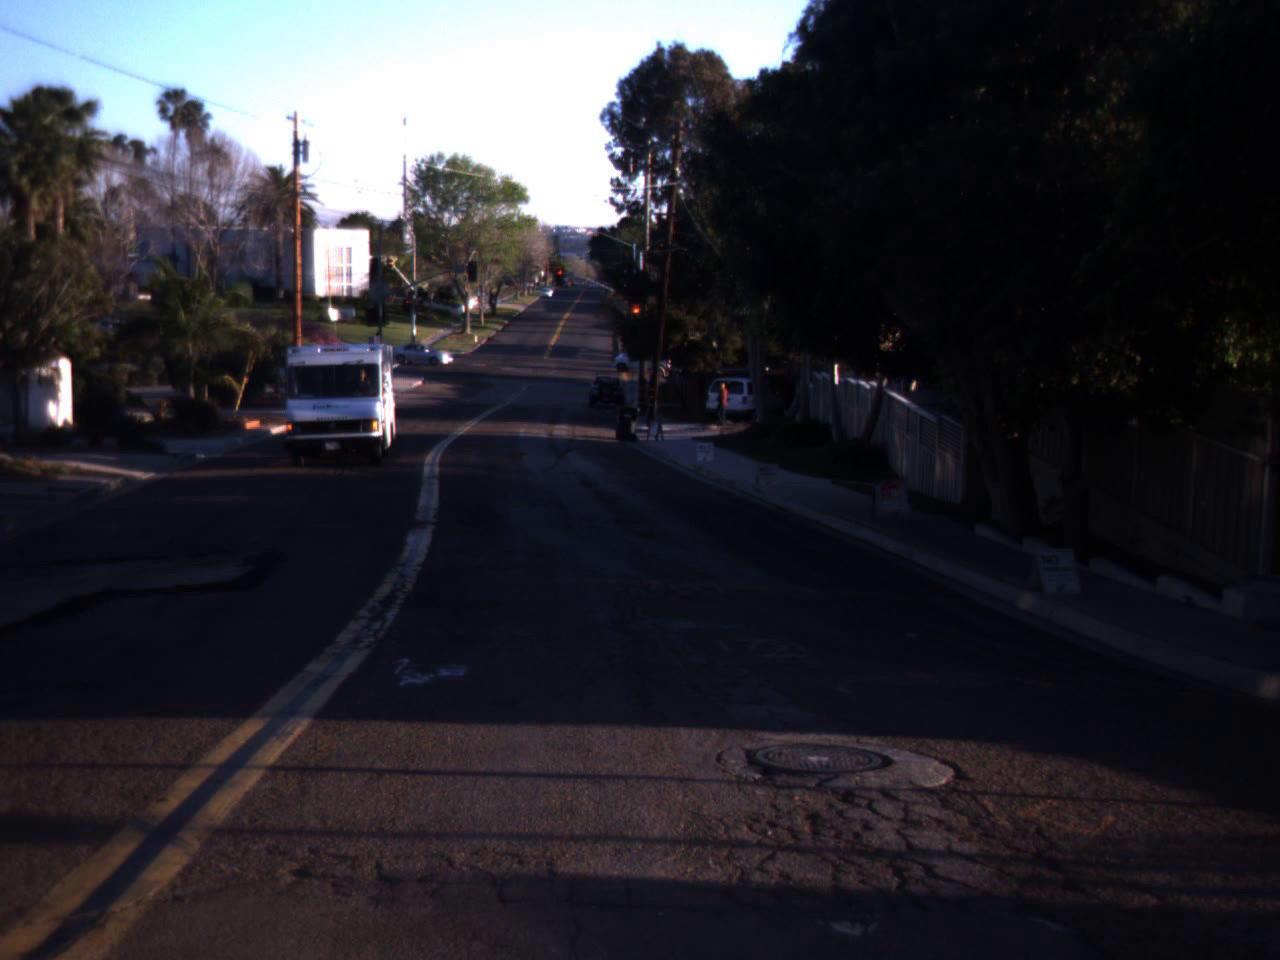stop: (399, 296, 414, 318), (629, 306, 644, 324), (554, 268, 566, 286)
